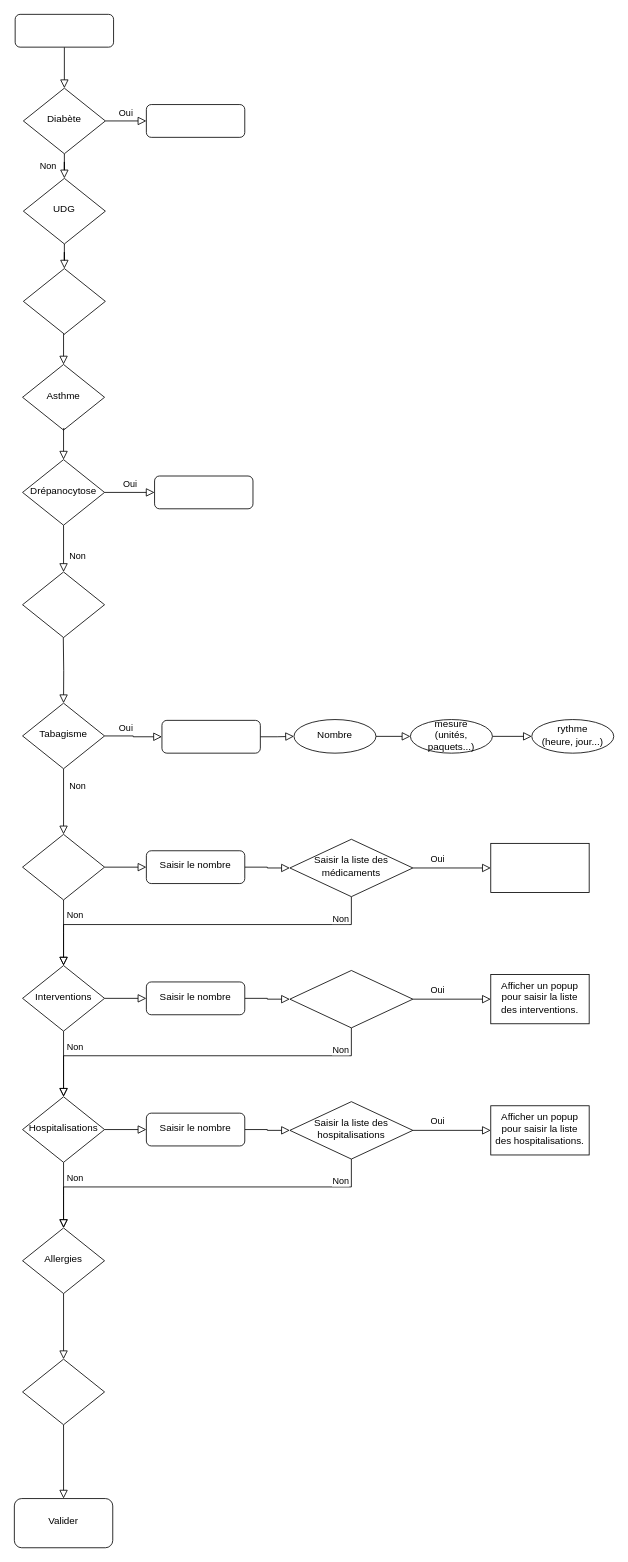
Image size: 628x1562. Some labels were removed from this diagram. Each missing label, with the centre of its shape:
"Afficher un popup pour saisir la liste des médicaments." belongs at pixel 539 868.
"Alcoolisme" belongs at pixel 63 604.
"Autres" belongs at pixel 63 1391.
"Fenêtre des antécédents" belongs at pixel 64 30.
"HTA" belongs at pixel 64 301.
"Médicaments ?" belongs at pixel 63 867.
"Saisir l'hemoglobine" belongs at pixel 203 492.
"Saisir la fréquence" belongs at pixel 210 736.
"Saisir la liste des interventions" belongs at pixel 351 999.
"Saisir le type du diabète" belongs at pixel 195 120.
